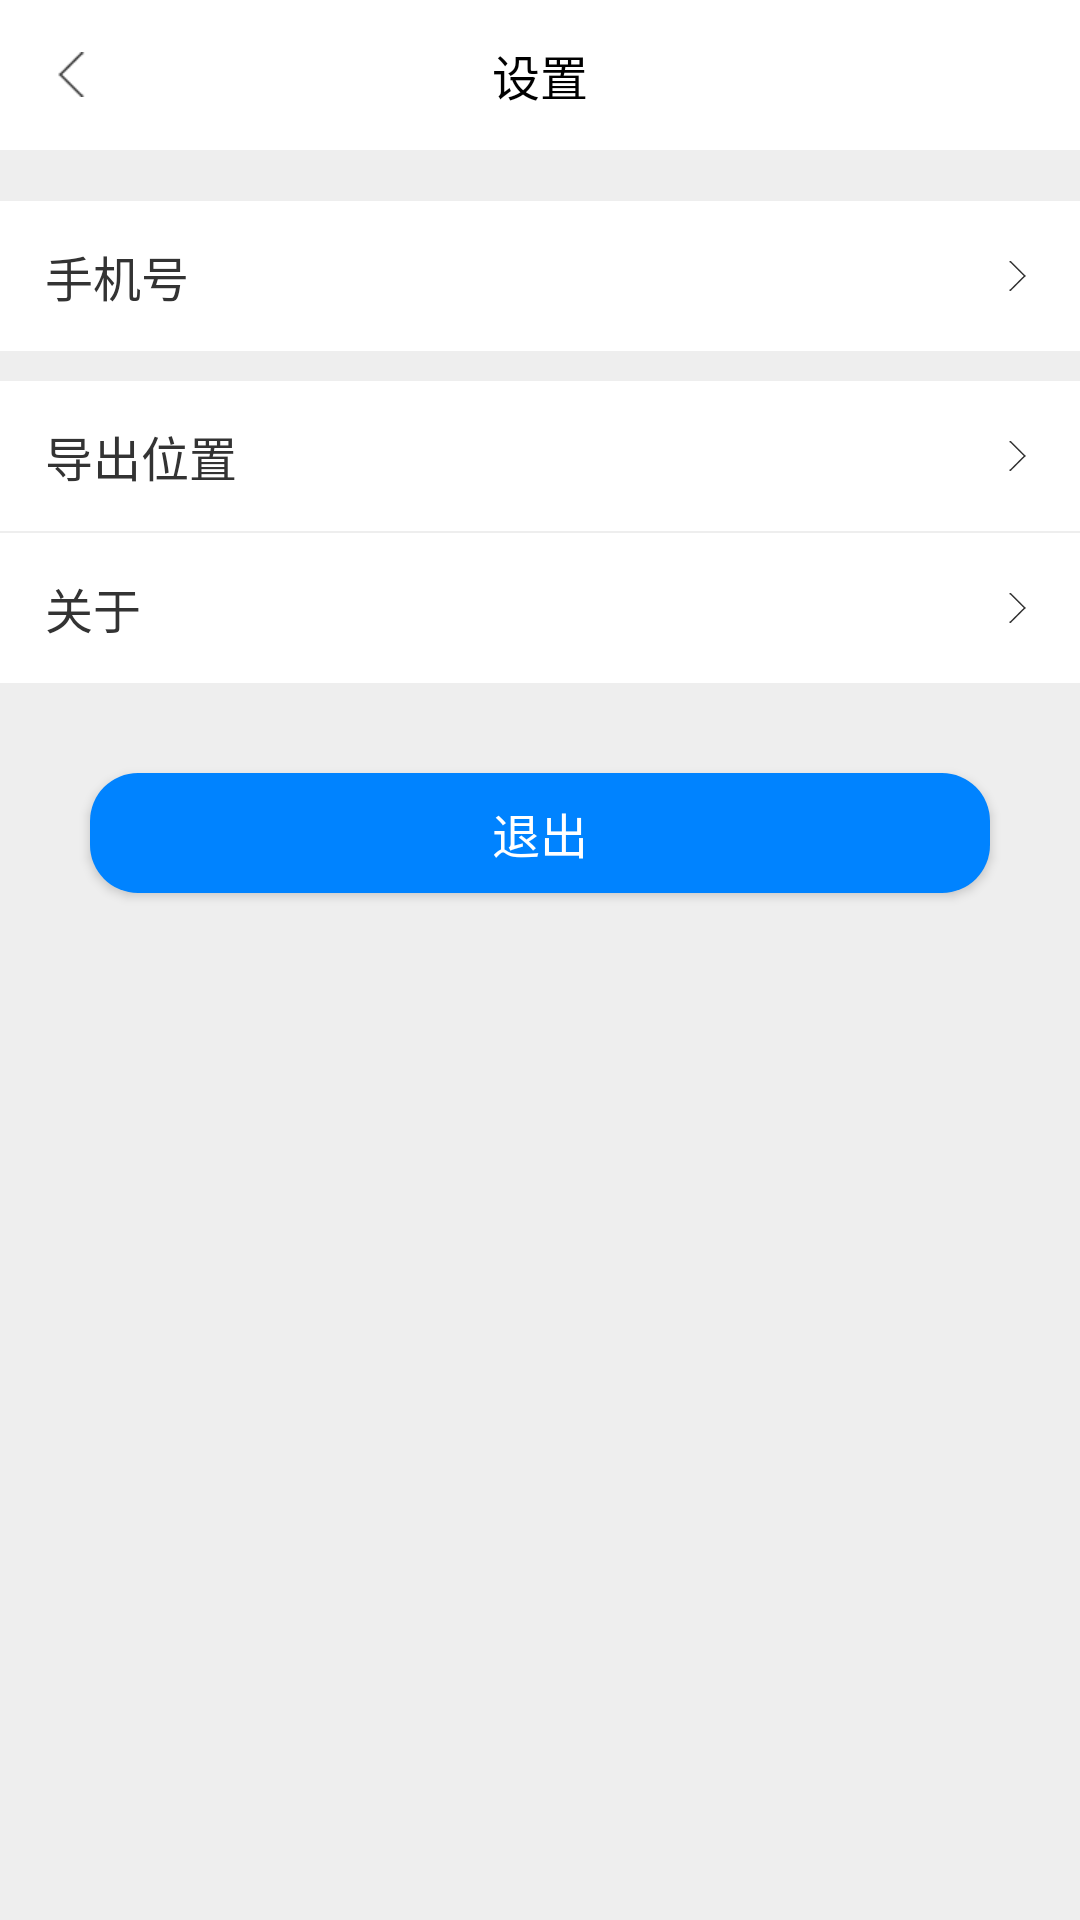

Named icons in this screenshot (1080×1920) and their centers, point (x, y):
back: point (71, 74)
right arrow: point (1017, 276), point (1017, 456), point (1017, 608)
